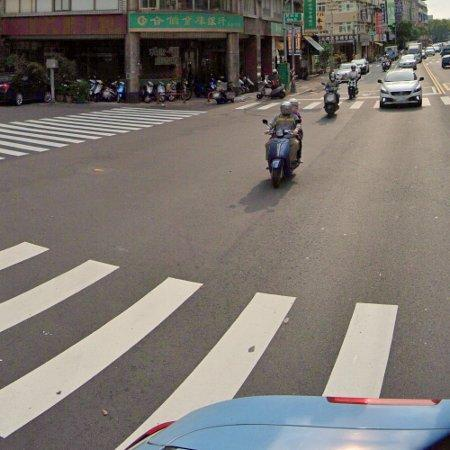motorcycles: (268, 130, 294, 188)
